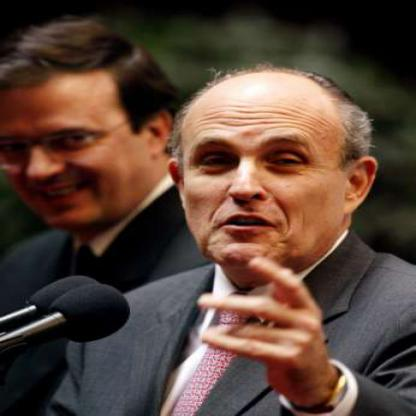face: (173, 70, 354, 276), (1, 45, 149, 231)
